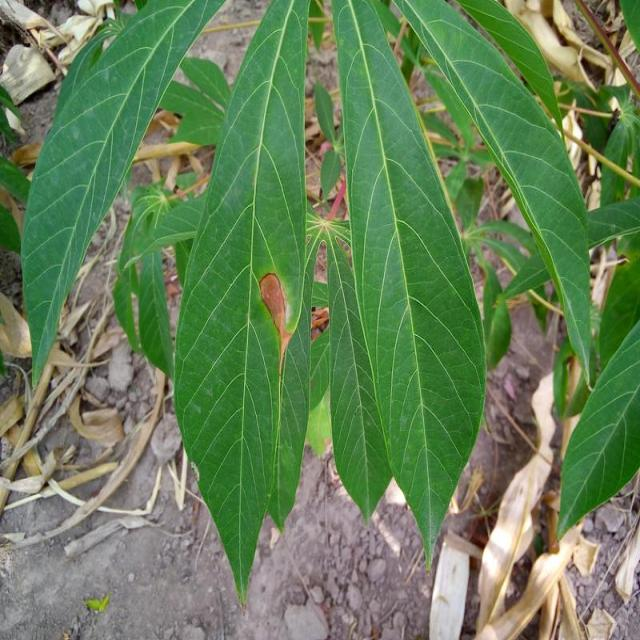cassava leaf: (327, 0, 489, 571), (172, 0, 314, 606), (20, 0, 227, 389), (394, 0, 596, 388), (556, 318, 640, 542)
